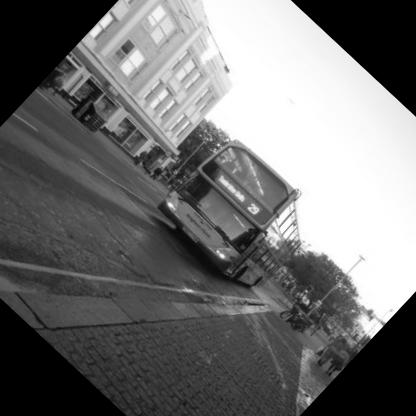bus: (133, 98, 358, 321)
